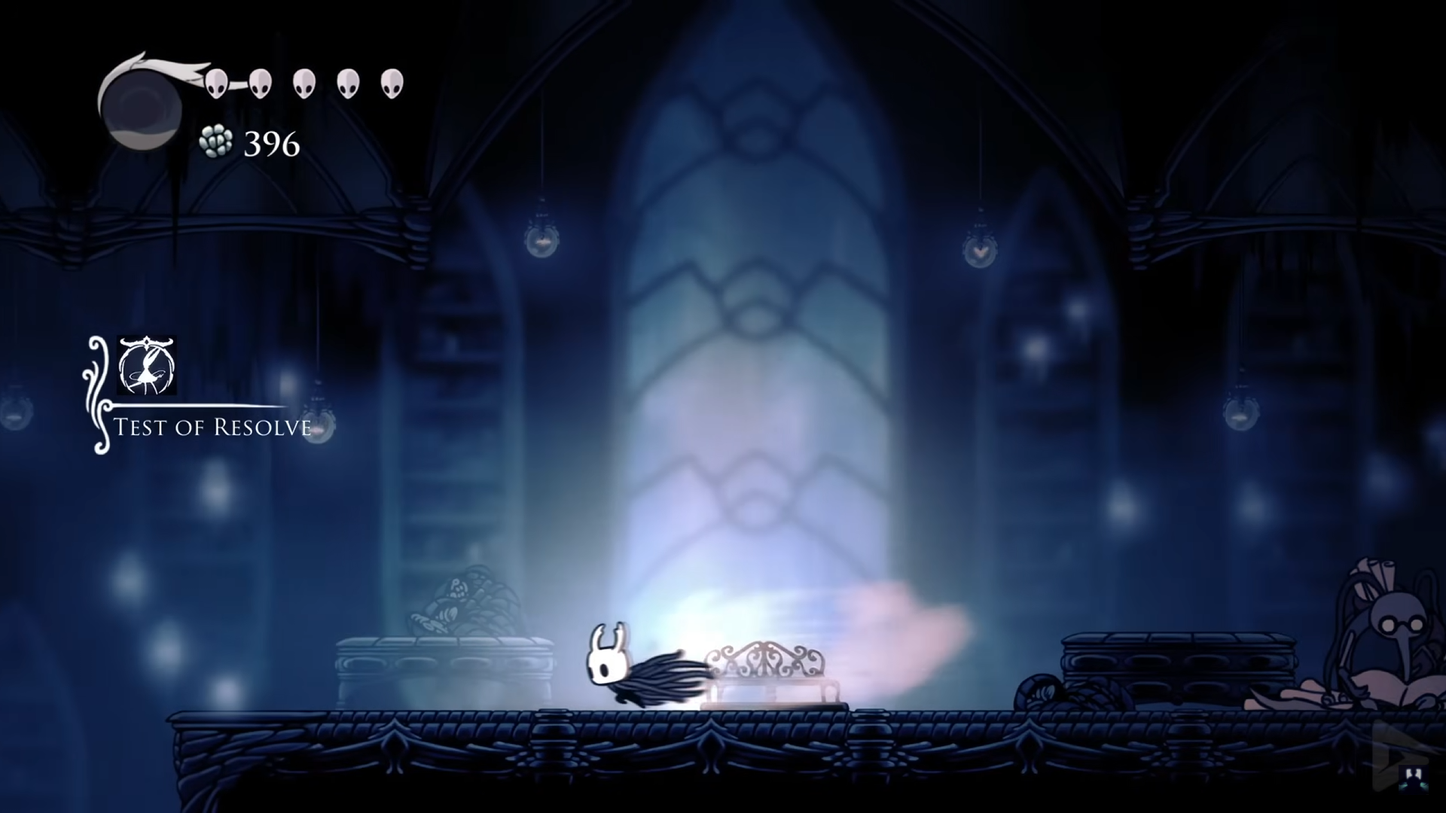HK: (581, 622, 705, 710)
